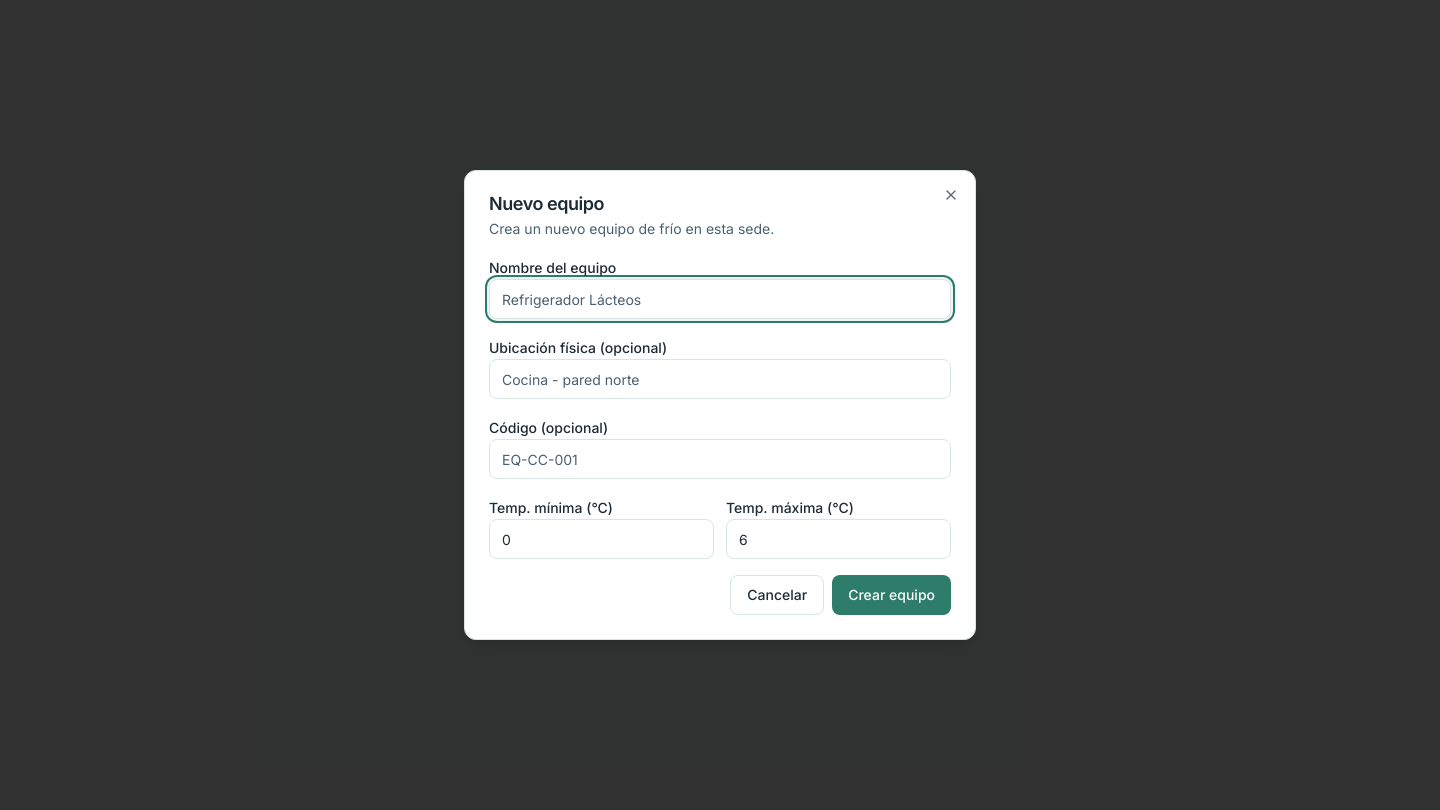
Test: EquipmentFormDialog - create mode › shows validation error when minTemp is greater than maxTemp
Type "Equipo Test" into the field labelled "Nombre del equipo". click: (720, 299)
box: [489,279,951,319]
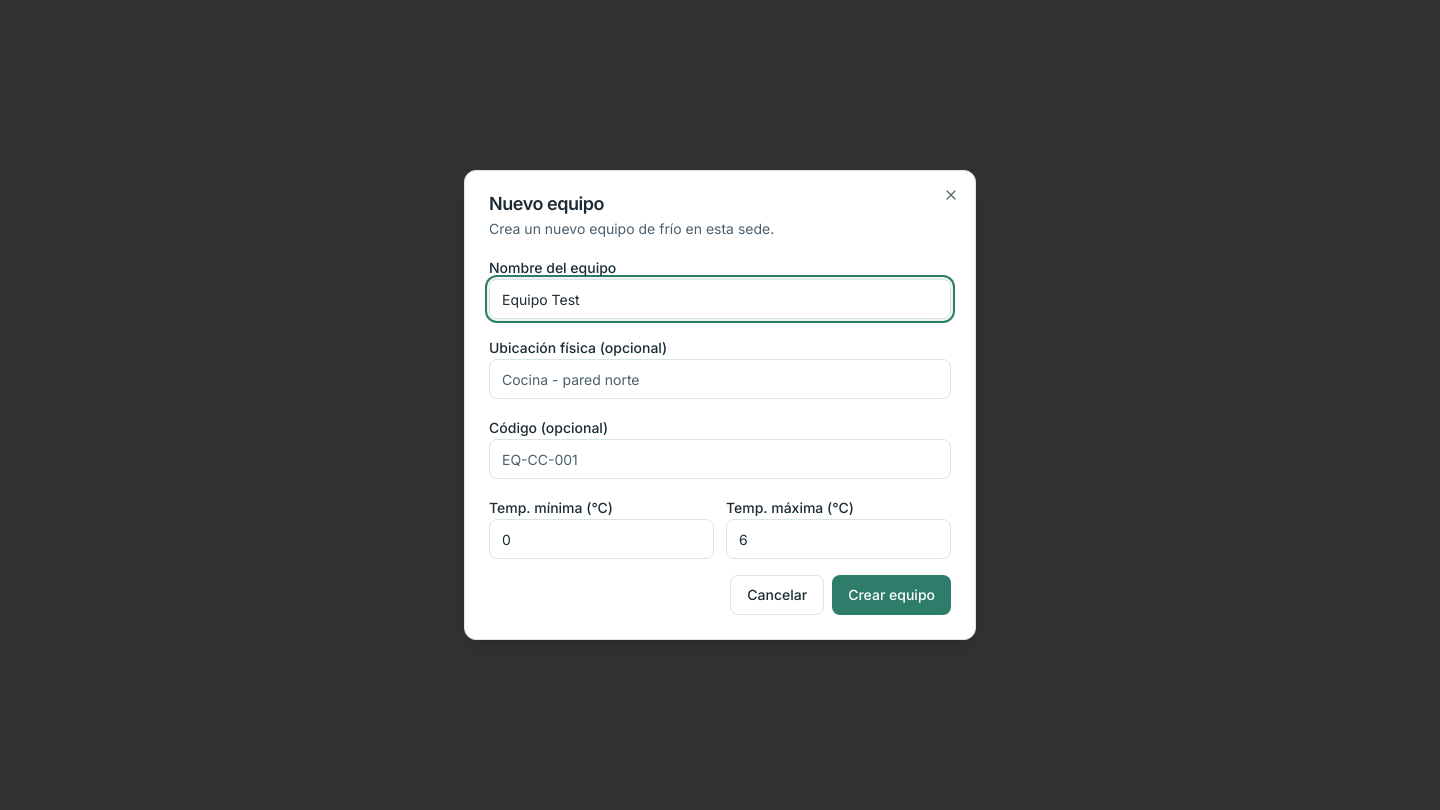
Replace the text in the number field labelled "Temp. mínima (°C)" with "10". click: (602, 539)
box: [489,519,714,559]
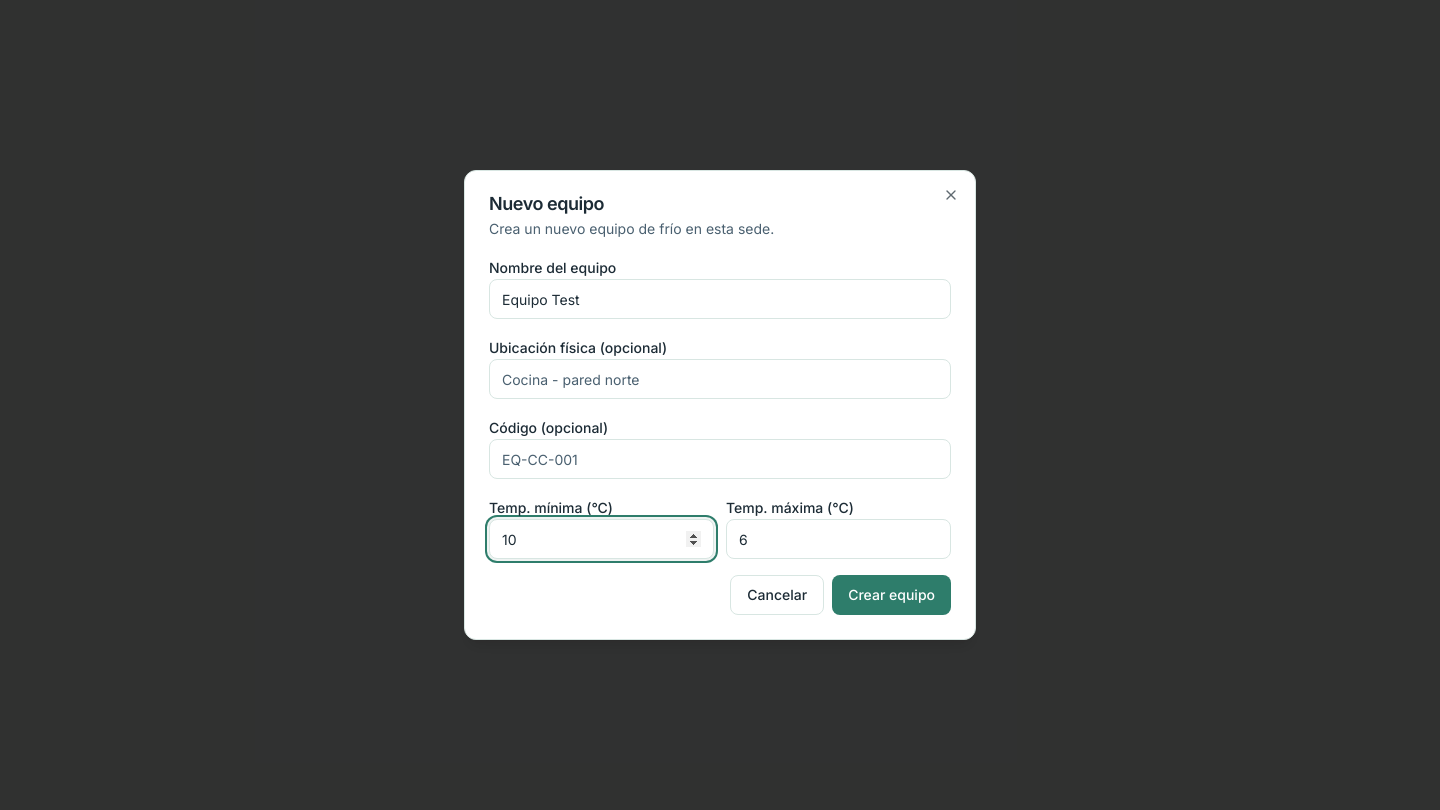
Replace the text in the number field labelled "Temp. máxima (°C)" with "0". click: (838, 539)
box: [726,519,951,559]
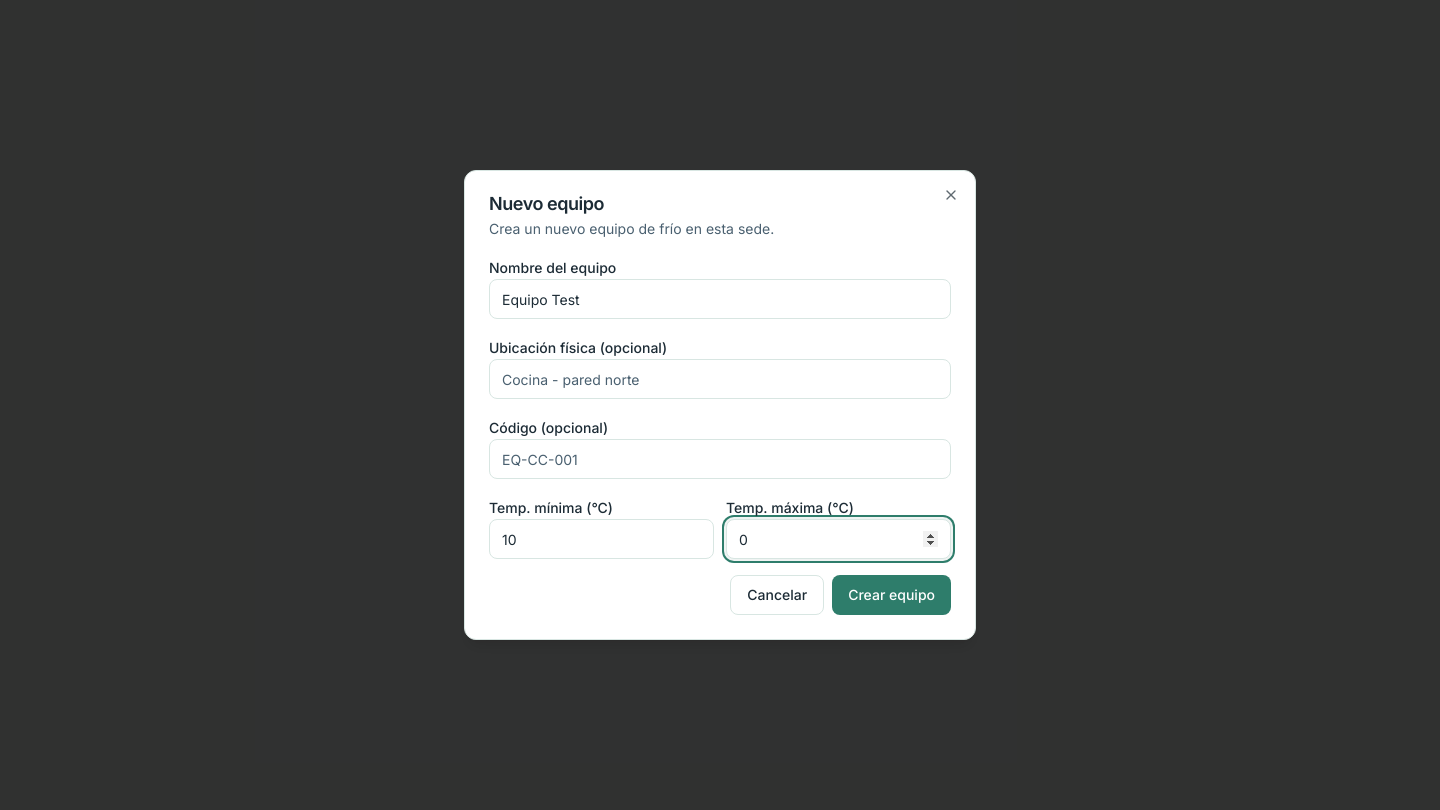
Click the button "Crear equipo". click: click(892, 595)
box: [832,575,951,615]
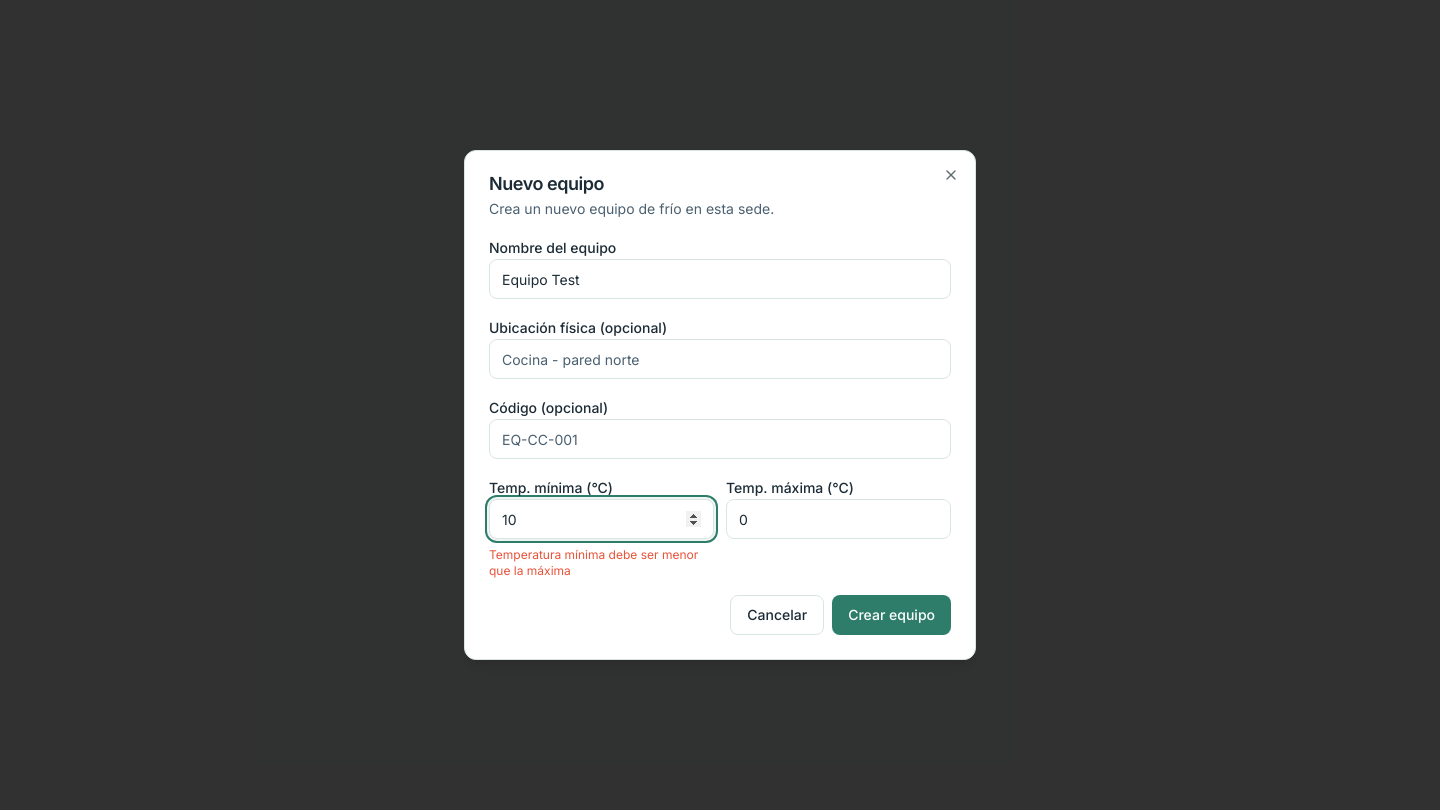
Expected: the text "Temperatura mínima debe ser menor que la máxima" is shown, [489,547,714,579]
